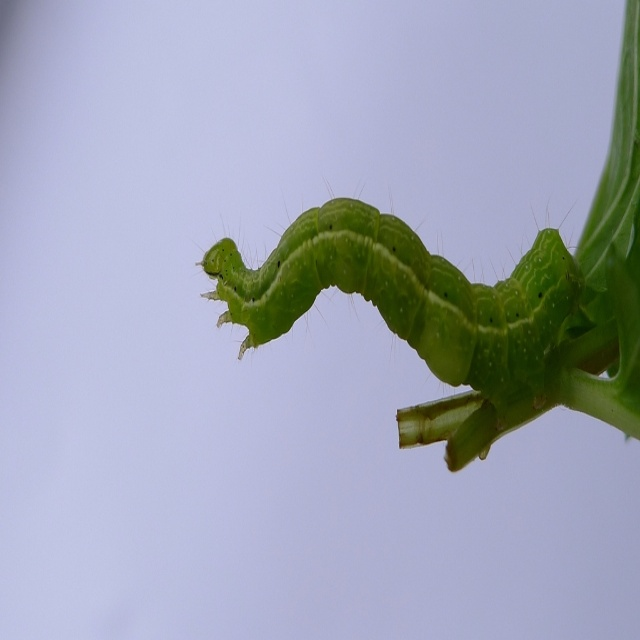Caterpillar: (195, 189, 590, 412)
